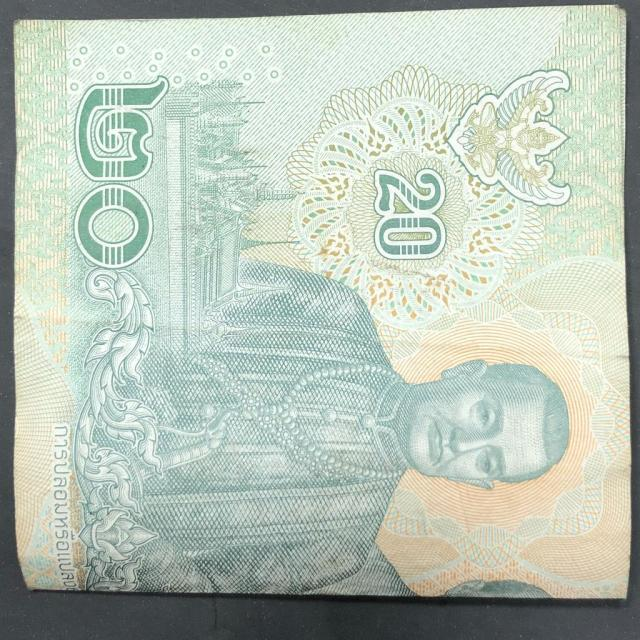THAI20: (14, 5, 631, 599)
